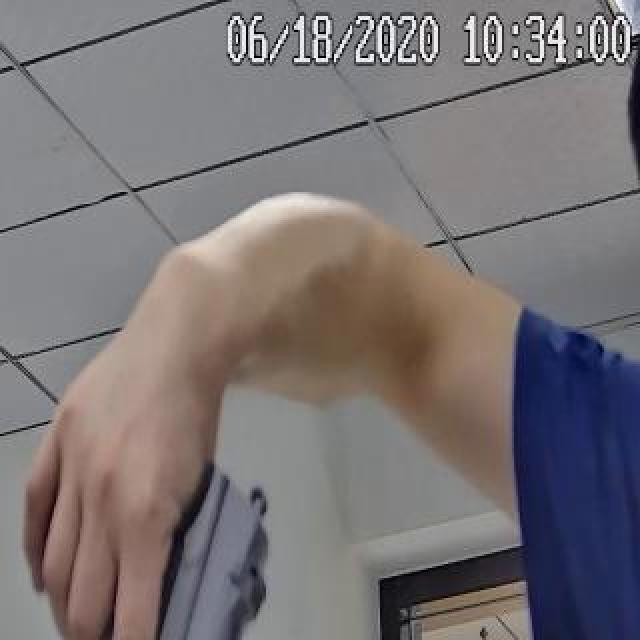Guns: (30, 454, 304, 640)
